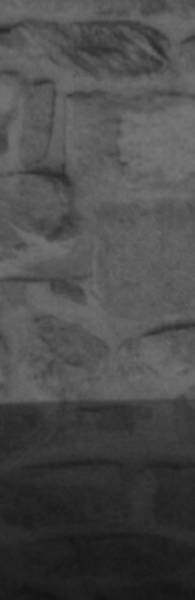water: (0, 401, 195, 600)
